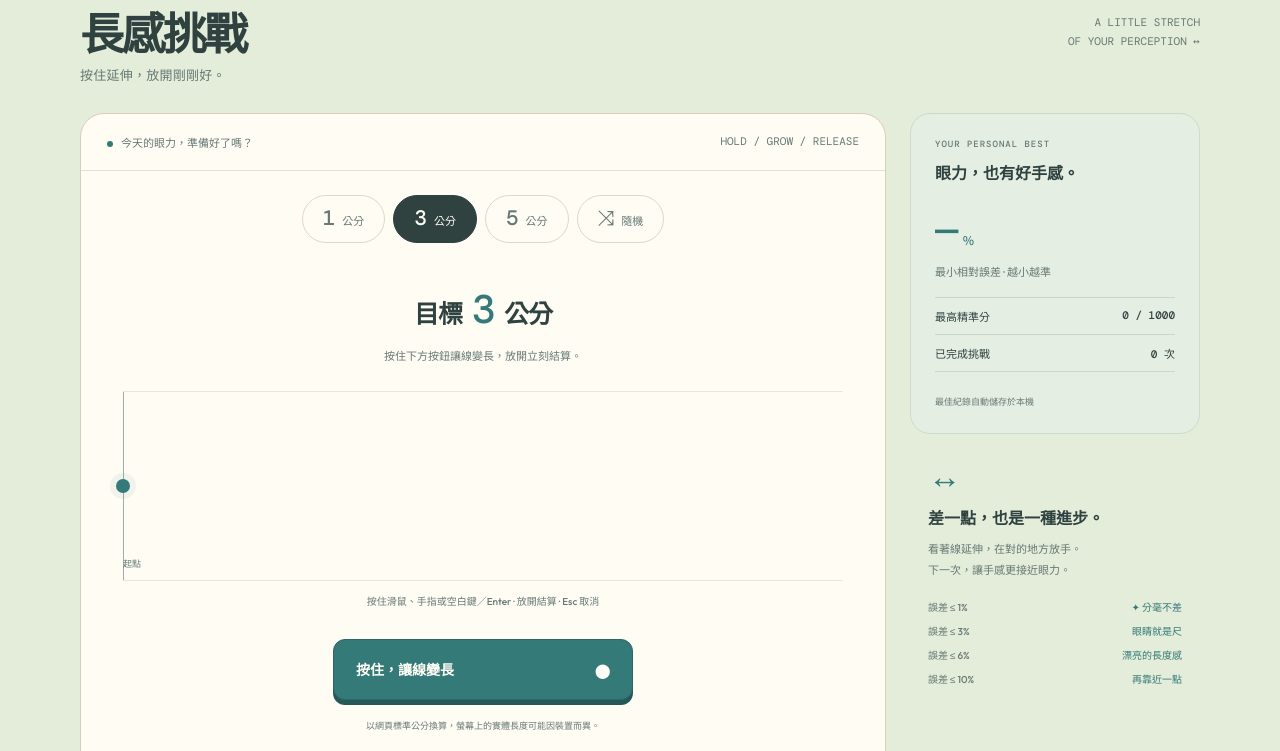
Test: Length Sense hold and release › holds Space or Enter, ignores key repeats and unrelated releases, and can replay
Click the button with aria-label "1 公分挑戰" at (344, 219), box [302,195,385,243]
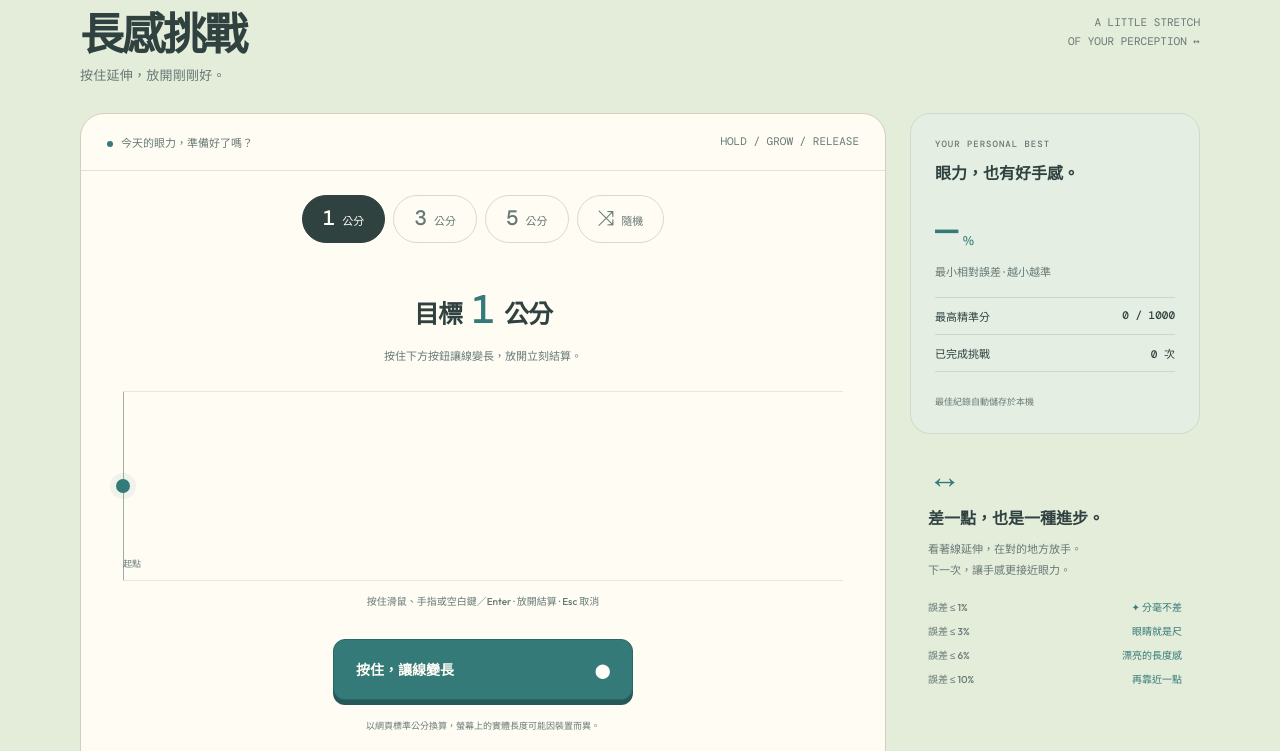
Press Space in the button with aria-label "按住讓線變長", box [333,639,633,700]
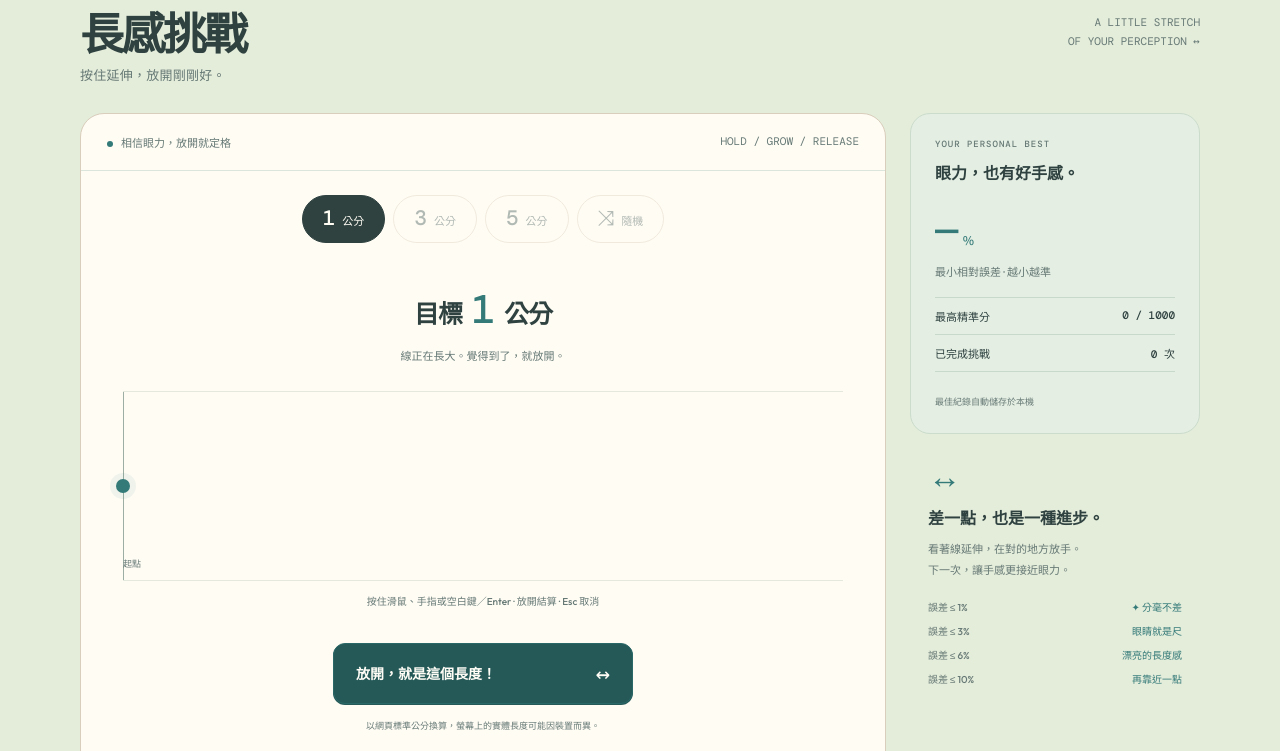
Press Space in the button named "按住讓線變長", box [333,643,633,704]
Press Enter in the button named "按住讓線變長", box [333,643,633,704]
Expected: the button with aria-label "放開結算" is shown
Press Space in the button with aria-label "放開結算", box [333,643,633,704]
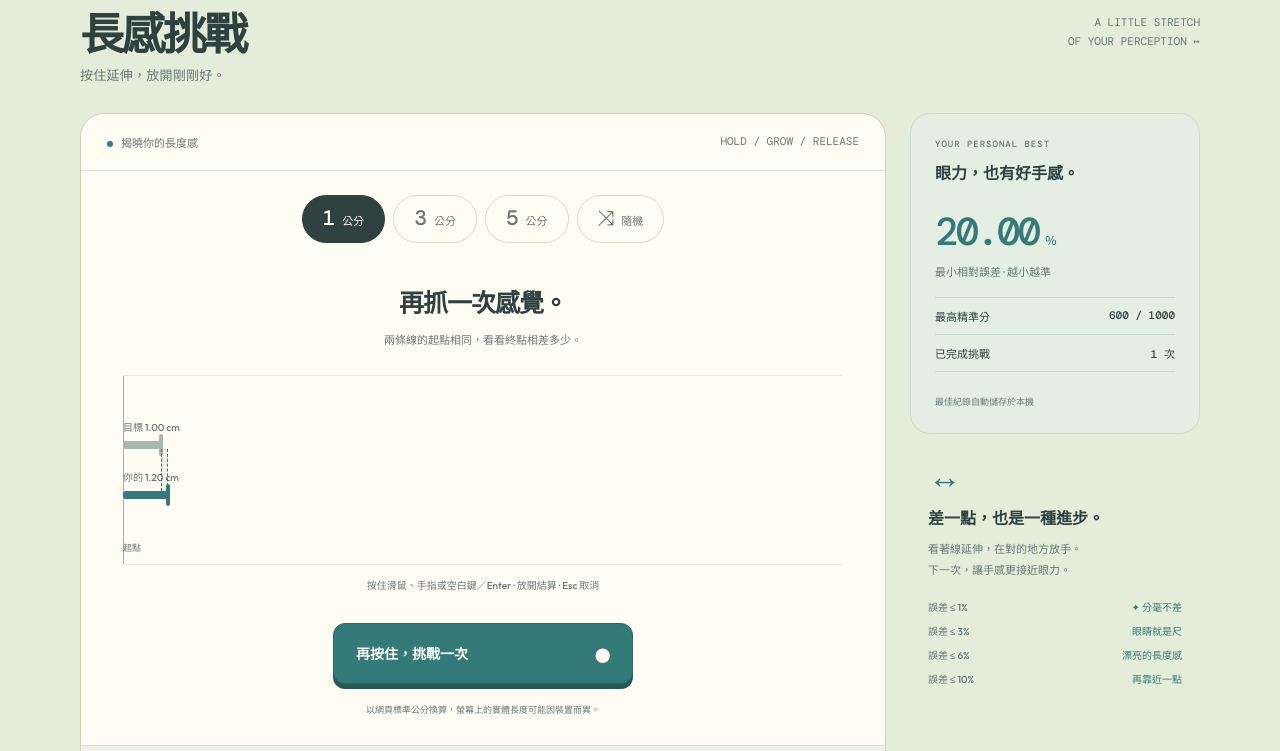
Press Enter in the button named "放開結算", box [333,623,633,684]
(page scrolled)
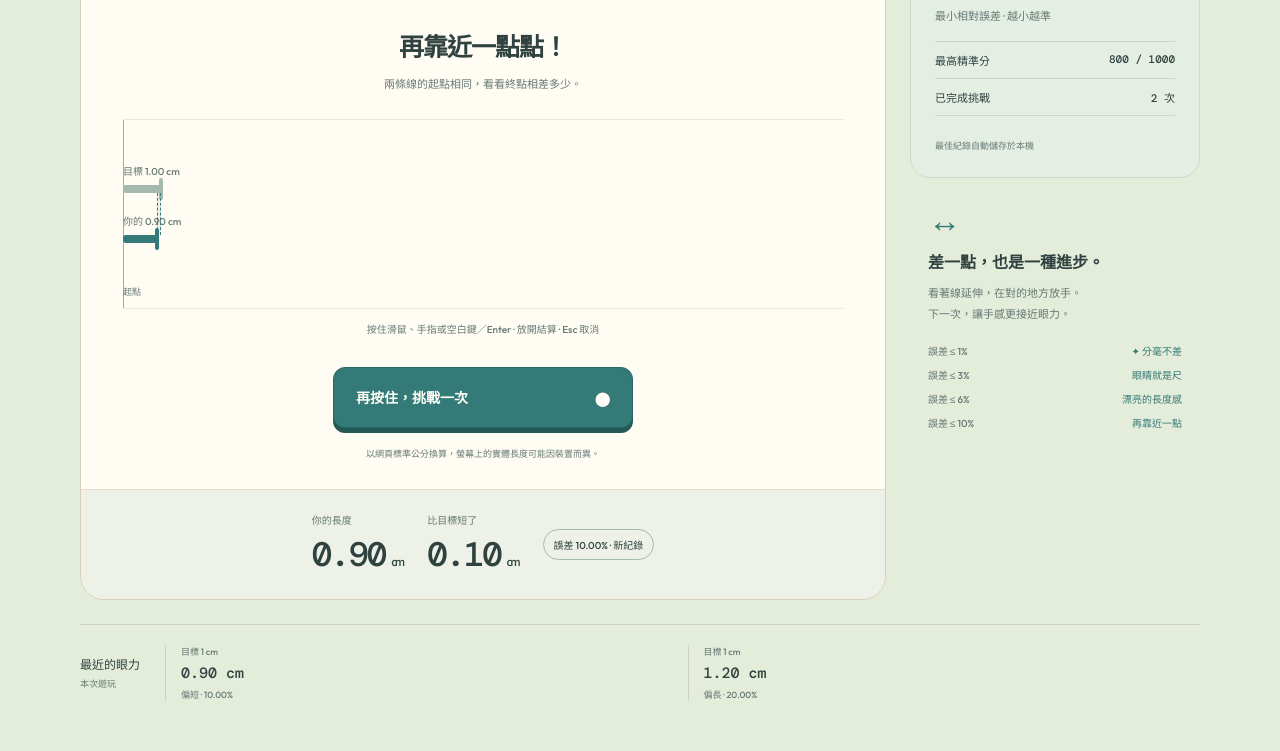
Expected: the message shows "0.90cm", [81,489,885,599]
Expected: the message shows "比目標短了", [427,514,477,527]
